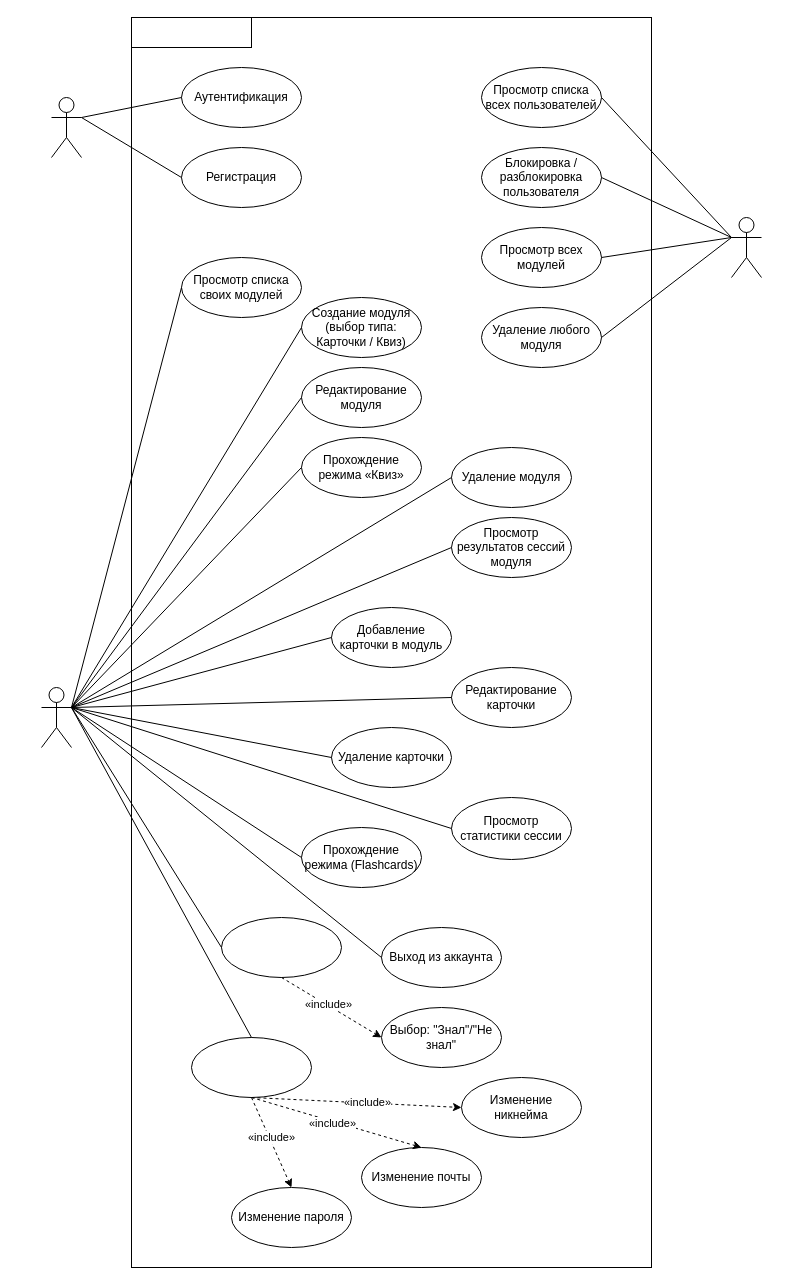
The diagram is 807 pixels wide and 1285 high, and some of its shapes have lost their labels. The box of each missing label's shape, as (x1, y1, x2, y2) in pixels:
QuizoO: (130, 16, 252, 48)
Администратор: (730, 216, 762, 278)
Гость: (50, 96, 82, 158)
Оценка карточки: (220, 916, 342, 978)
Пользователь: (40, 686, 72, 748)
Редактирование профиля: (190, 1036, 312, 1098)
